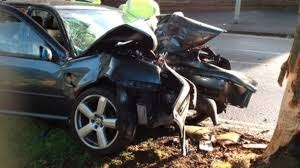Broken-glass: (59, 8, 128, 46)
Dent: (59, 66, 93, 94)
Smashed: (84, 14, 254, 137)
